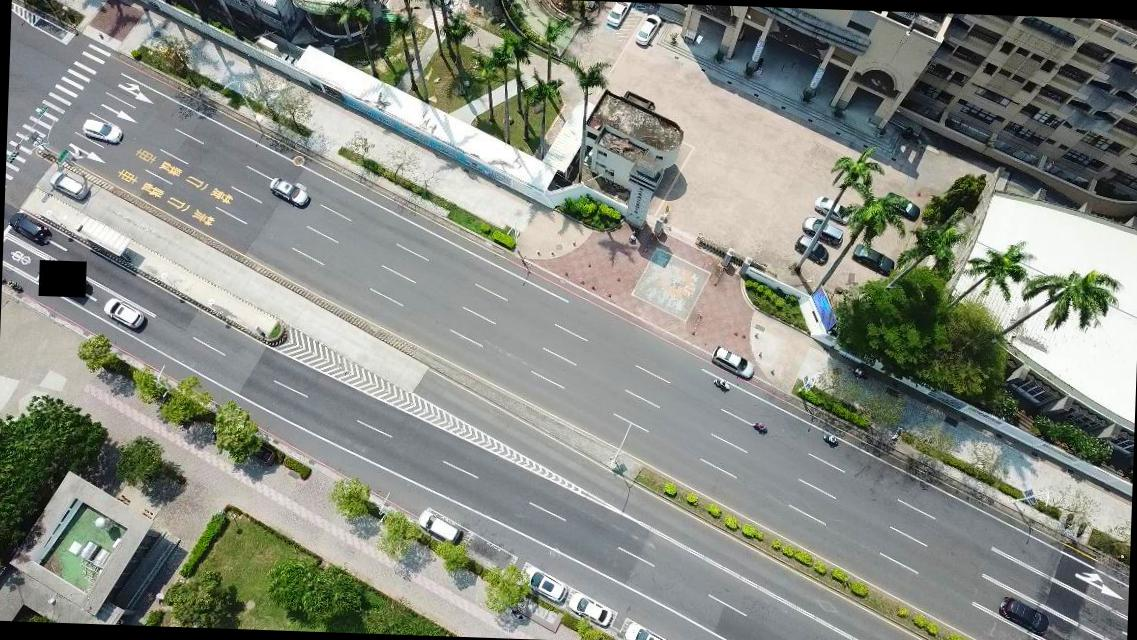vehicle: (998, 595, 1048, 632), (566, 590, 612, 627), (711, 344, 755, 380), (522, 566, 566, 602), (800, 216, 845, 247), (416, 509, 457, 543), (268, 177, 310, 210), (851, 243, 894, 275), (102, 298, 142, 331), (9, 212, 50, 244), (812, 194, 852, 226), (47, 172, 90, 201), (880, 191, 920, 220), (792, 235, 829, 266), (623, 619, 677, 639), (82, 119, 122, 145), (634, 13, 660, 47), (605, 2, 632, 29)
